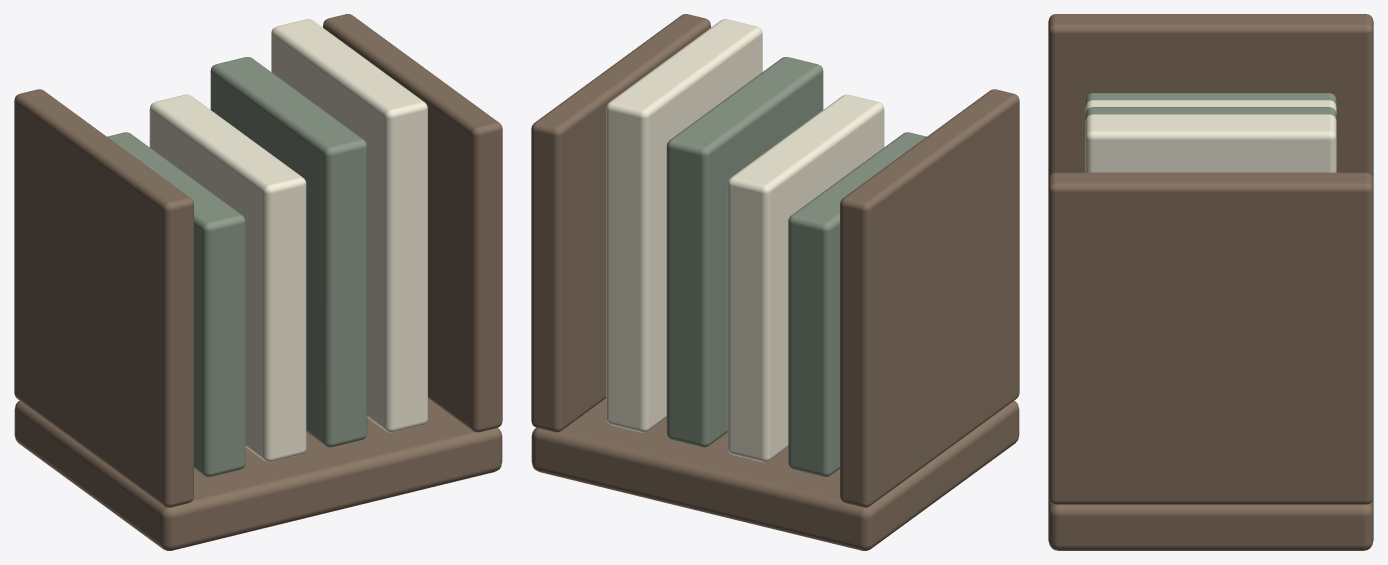
The model's file is abandoned-weather-station-and-storm-shelter-field-note-c5d5e7d7__31036.glb.
3 renders of one model, left to right at view 1: azimuth 30°, elevation 25°; view 2: azimuth 150°, elevation 25°; view 3: azimuth 270°, elevation 25°, orthographic. The views are drawn at different scales.
Visible parts, largest first — view 1: field-notebook-holder; view 2: field-notebook-holder; view 3: field-notebook-holder.
Part boxes in pixels (<box>): field-notebook-holder: <box>14,14,502,550</box>; field-notebook-holder: <box>531,14,1019,550</box>; field-notebook-holder: <box>1048,14,1373,550</box>.
Size of the model in its own units: 0.28 by 0.292 by 0.22.
